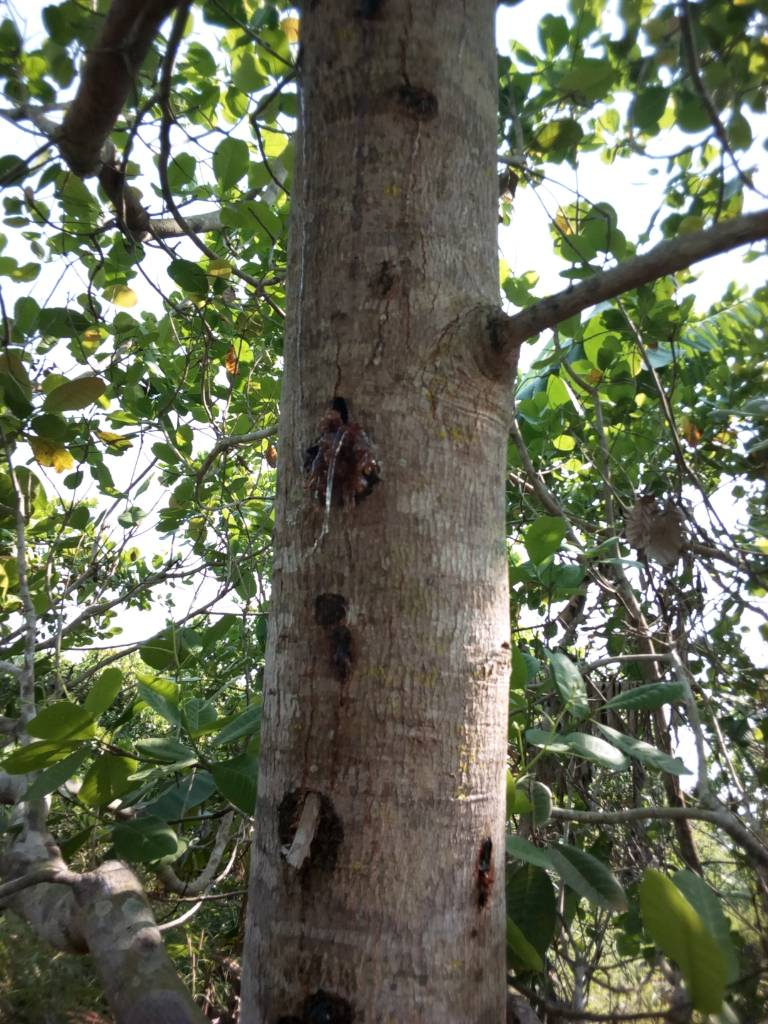Mecocorynus longiceps: (277, 386, 422, 552), (238, 783, 386, 894), (263, 561, 382, 685), (444, 824, 529, 924), (375, 67, 475, 146)
